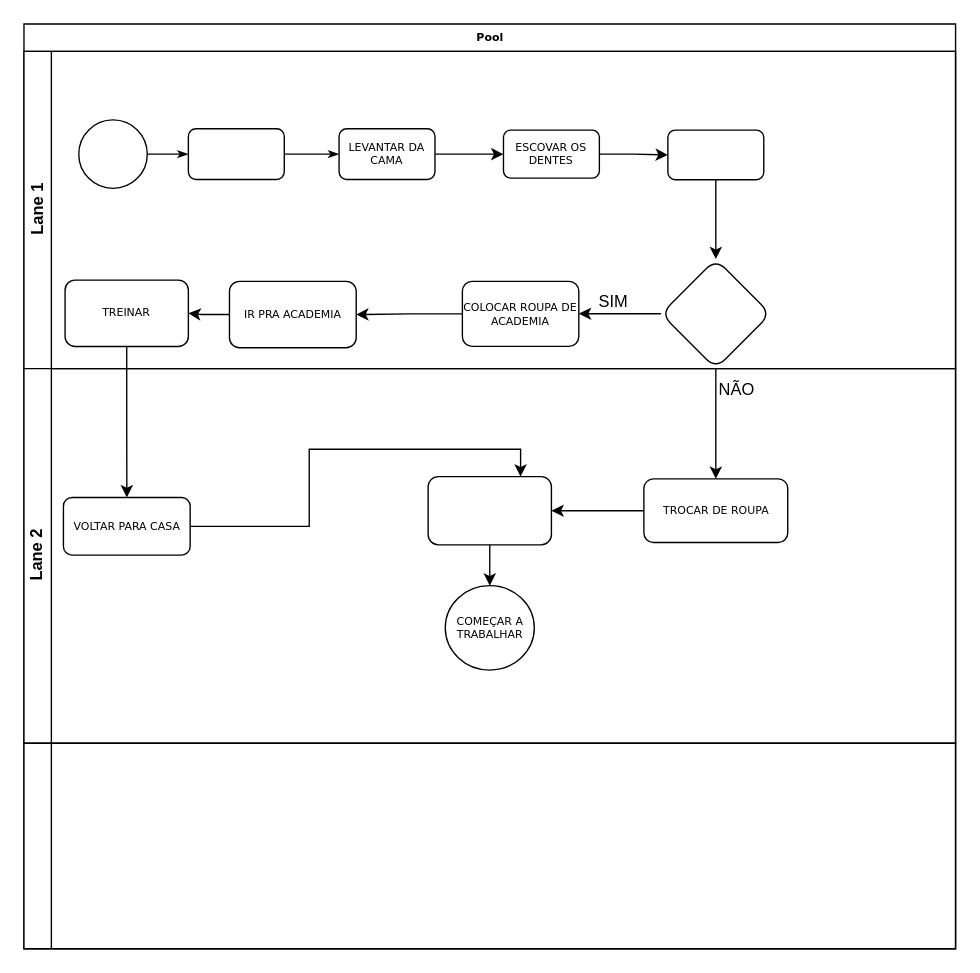
Some shapes in this 980 by 973 pixel diagram are drawn without their labels. Here are the shapes that lost their labels. From the top down, the centre of each, then its label:
At pixel 112 153: "INÍCIO".
At pixel 235 153: "ACORDAR".
At pixel 715 154: "TOMAR CAFÉ DA MANHÃ".
At pixel 715 313: "VAI PARA ACADEMIA?".
At pixel 489 510: "LIGAR COMPUTADOR".
At pixel 489 845: "Lane 3".
